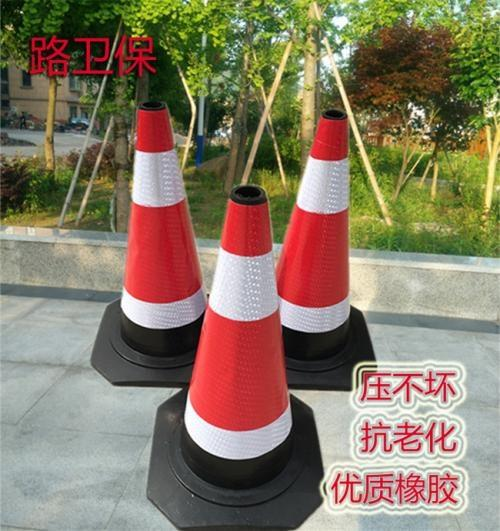cone_barrel: (172, 186, 307, 500), (96, 104, 213, 374), (266, 114, 370, 380)
